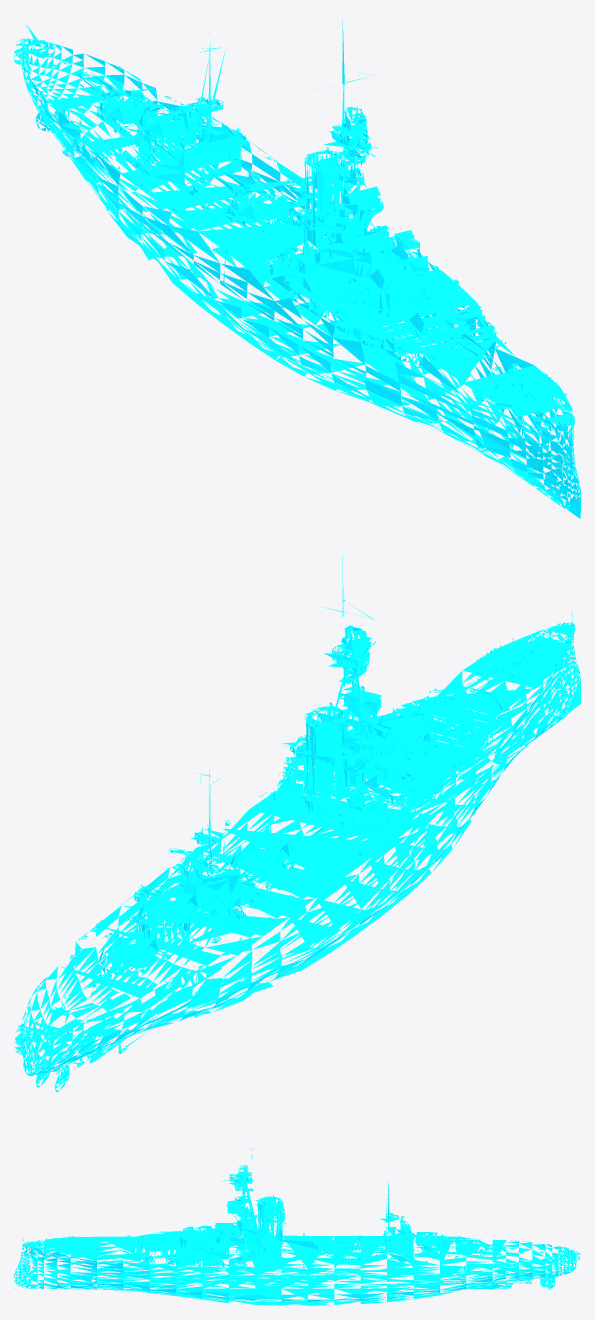
Rendered from PBSB105.glb.
3 renders of one model, top to bottom at view 1: azimuth 30°, elevation 25°; view 2: azimuth 150°, elevation 25°; view 3: azimuth 270°, elevation 25°, orthographic. The views are drawn at different scales.
Parts seen in each view (by area): view 1: hull_mid, hull_bow, main_battery, hull_stern, secondary_battery; view 2: hull_mid, hull_bow, main_battery, hull_stern, secondary_battery, hull_body; view 3: hull_mid, hull_bow, hull_stern, main_battery, secondary_battery.
Part boxes in pixels (x1=…): hull_mid: x1=55, y1=20, x2=515, y2=440; hull_bow: x1=406, y1=338, x2=580, y2=518; main_battery: x1=77, y1=72, x2=488, y2=356; hull_stern: x1=14, y1=25, x2=219, y2=172; secondary_battery: x1=276, y1=225, x2=487, y2=362; hull_mid: x1=57, y1=556, x2=513, y2=1051; hull_bow: x1=424, y1=612, x2=580, y2=782; main_battery: x1=76, y1=678, x2=489, y2=987; hull_stern: x1=14, y1=774, x2=219, y2=1092; secondary_battery: x1=276, y1=716, x2=501, y2=814; hull_body: x1=168, y1=741, x2=372, y2=870; hull_mid: x1=114, y1=1148, x2=492, y2=1305; hull_bow: x1=14, y1=1236, x2=139, y2=1290; hull_stern: x1=487, y1=1240, x2=580, y2=1289; main_battery: x1=111, y1=1225, x2=516, y2=1254; secondary_battery: x1=143, y1=1220, x2=274, y2=1264.
Size of the model in its own units: 1.94 by 4.13 by 12.66.
